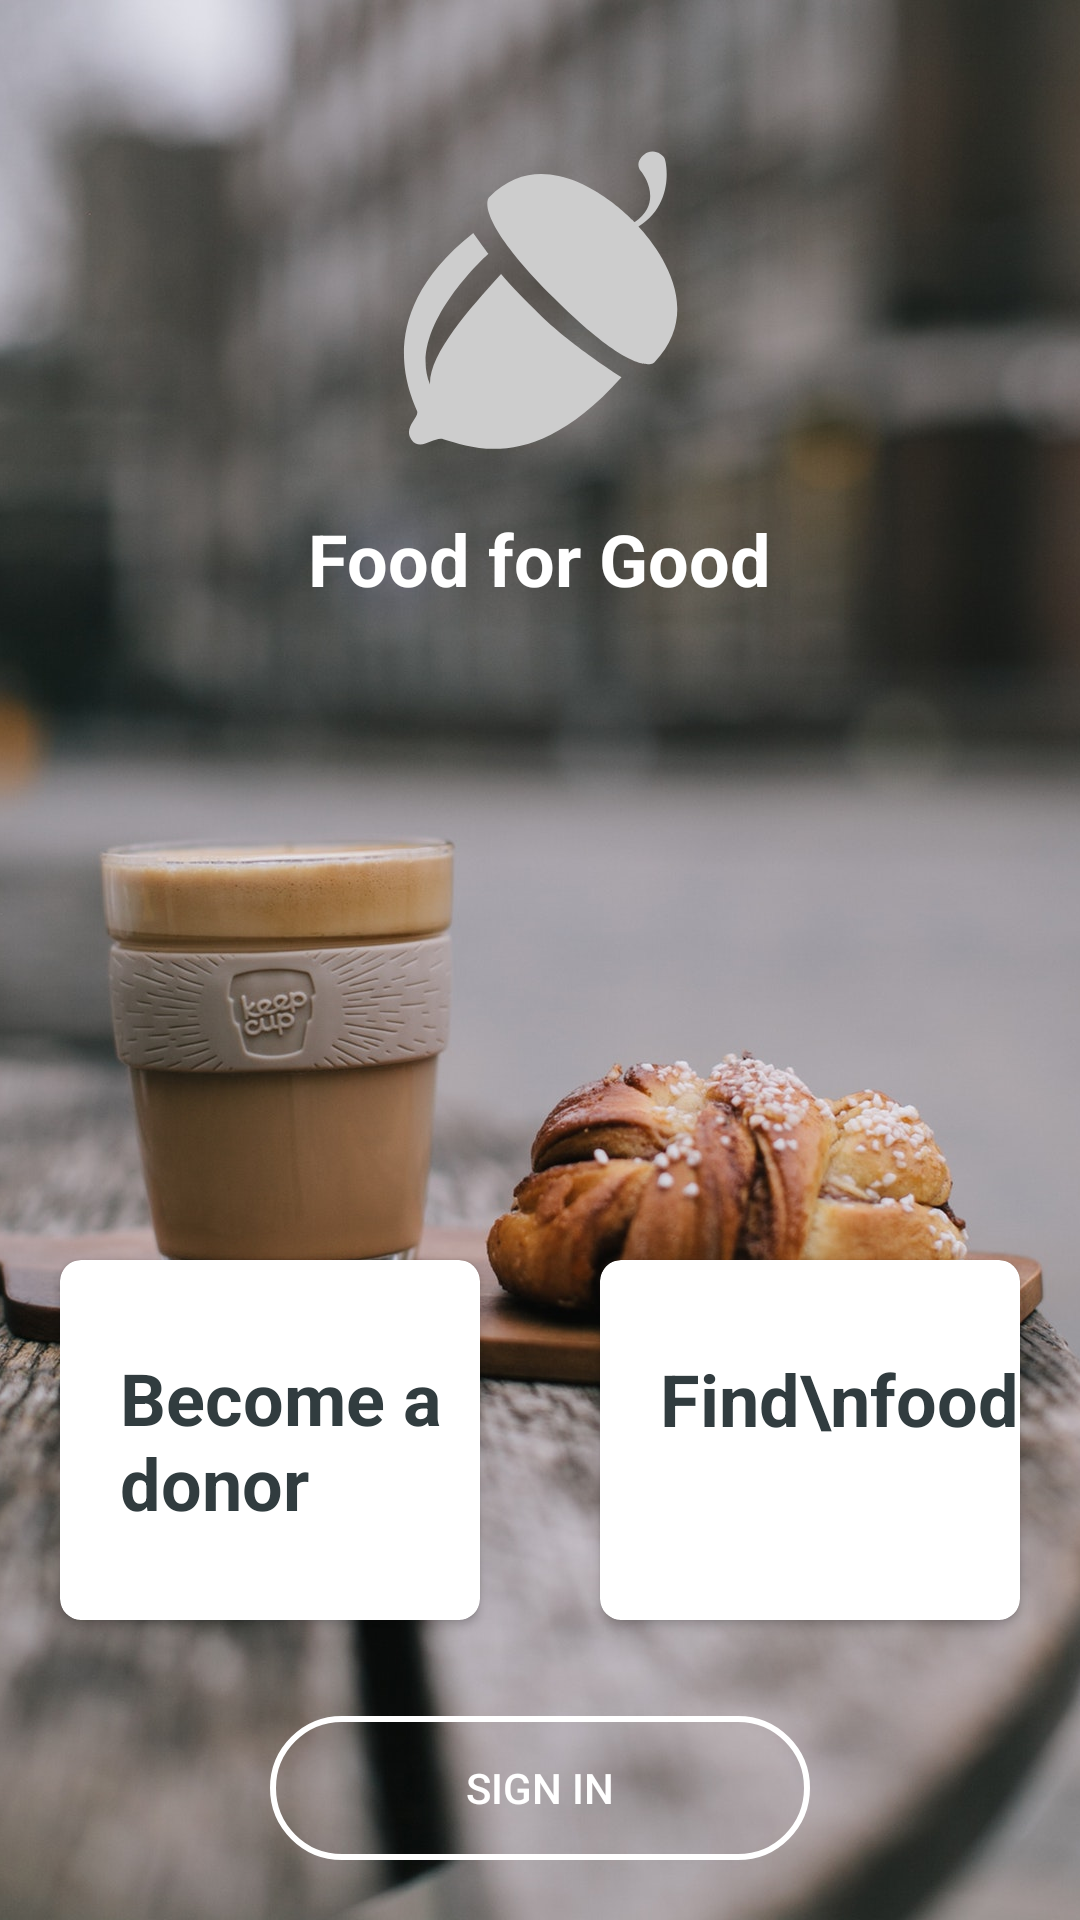

Icons on this 1080×1920 Android screen, each with the point to tap as point (x, y):
acorn nut: point (534, 299)
